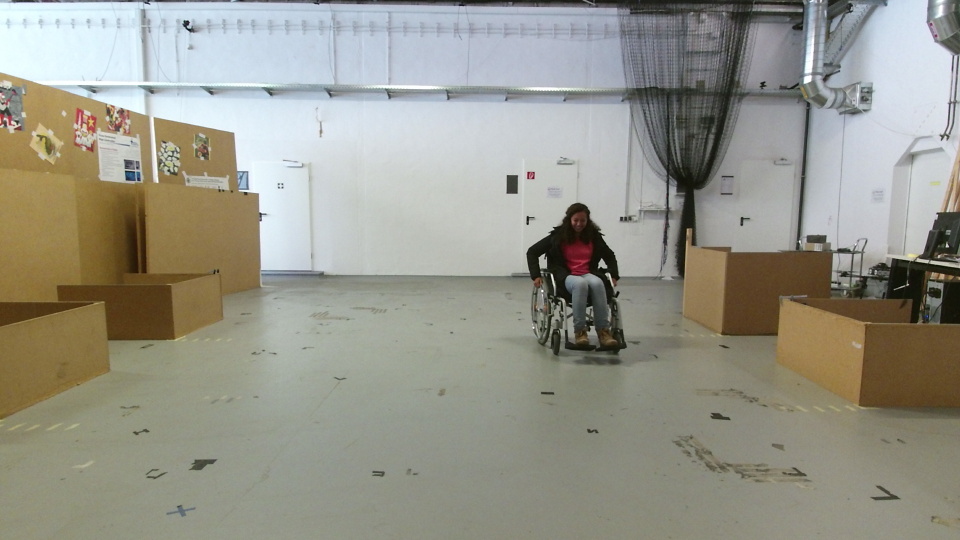wheelchair: (523, 199, 631, 357)
